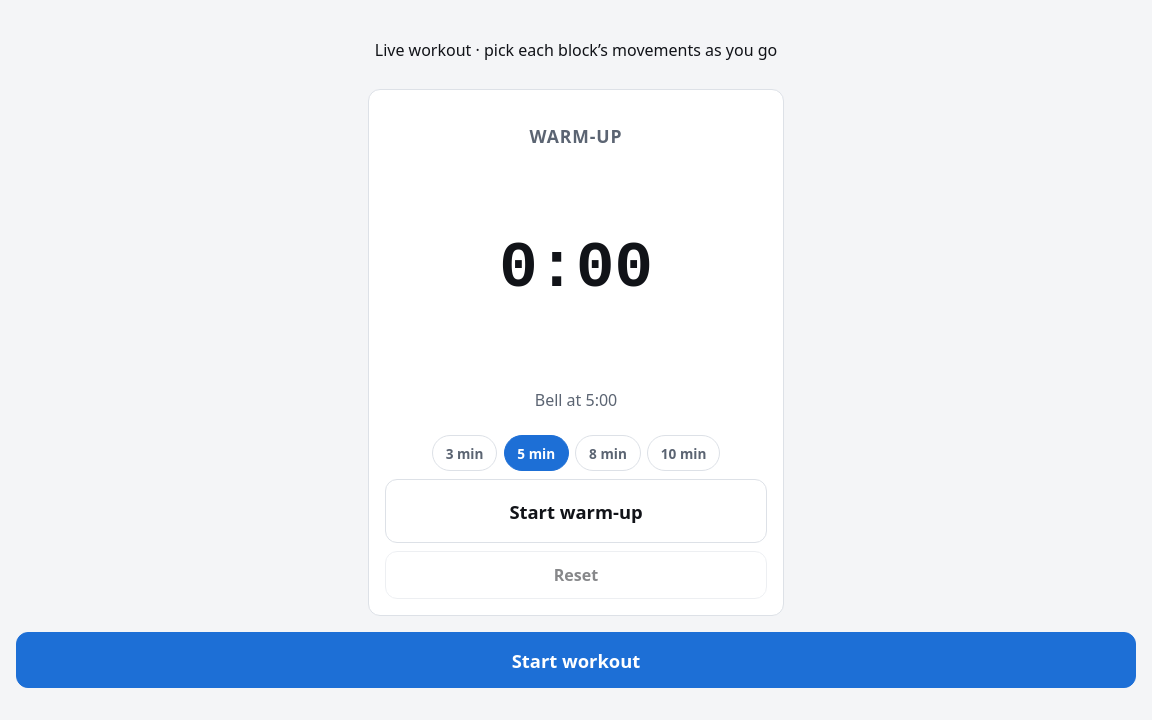
Scenario: Run: live workout (blocks entered on the fly) › offers recently used movements for the region as one-tap picks
The width and height of the screenshot is (1152, 720).
(page scrolled)
Click the button "Start workout" at (576, 660), box [16, 632, 1136, 688]
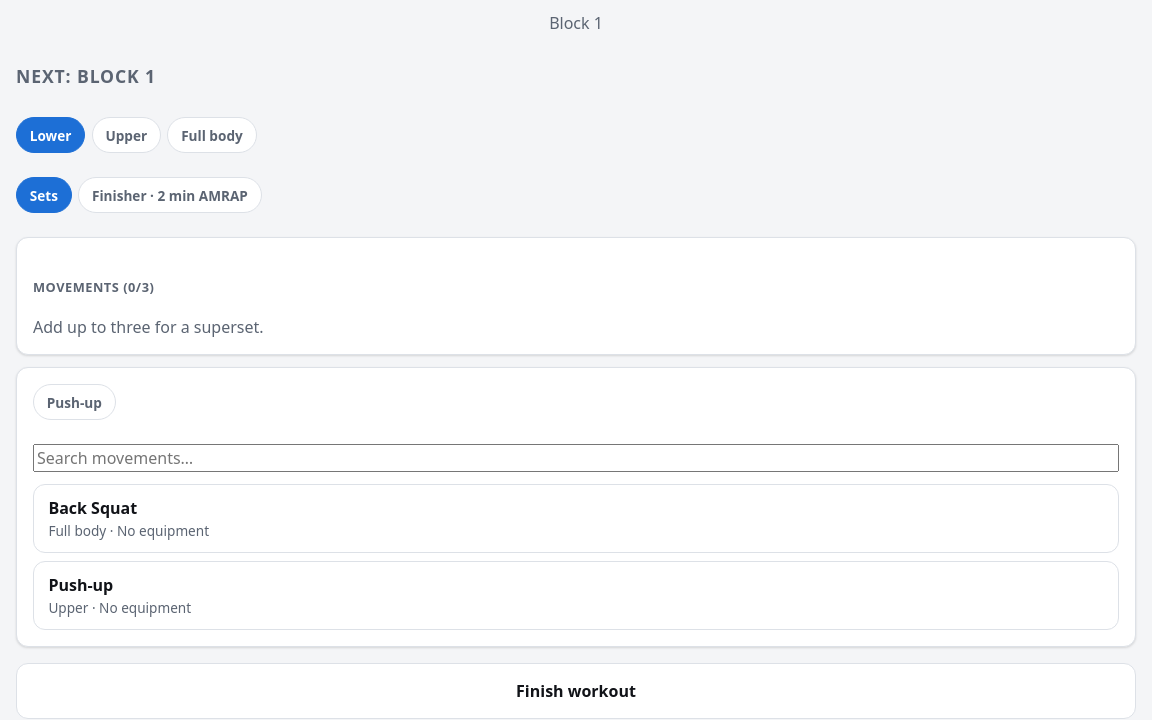
Click the button "Push-up" at (74, 402), box [33, 384, 116, 420]
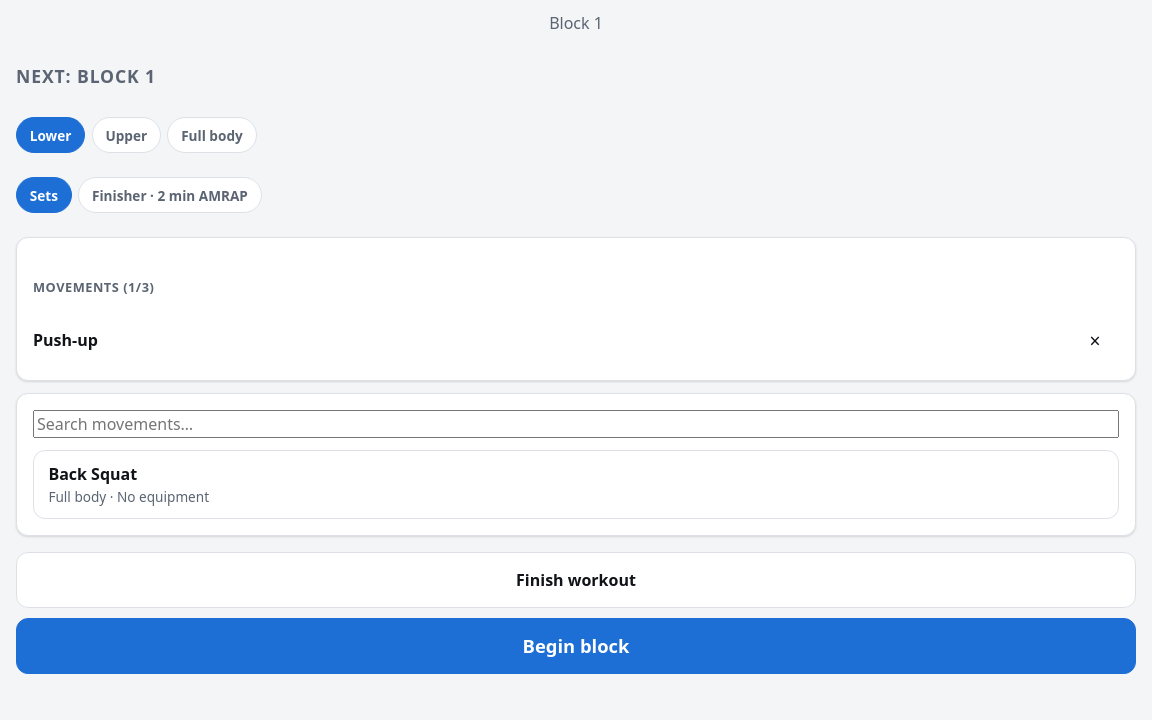
expect the text "Movements (1/3)" is shown: met, box [33, 278, 154, 296]
